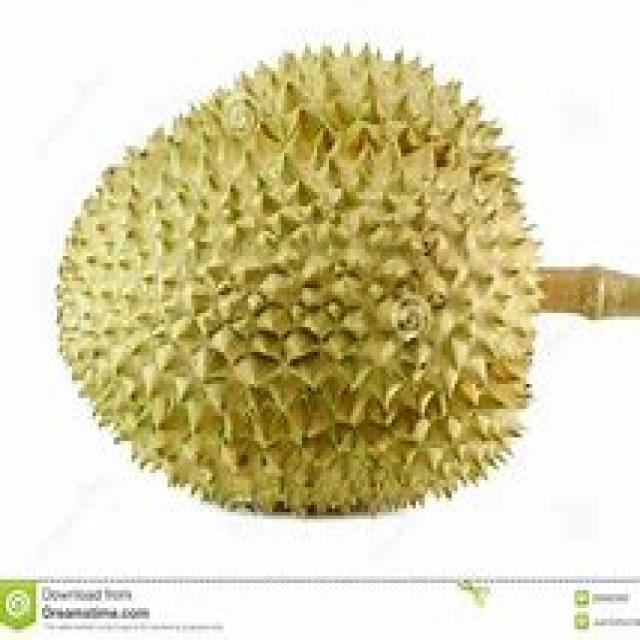mature: (60, 48, 536, 513)
